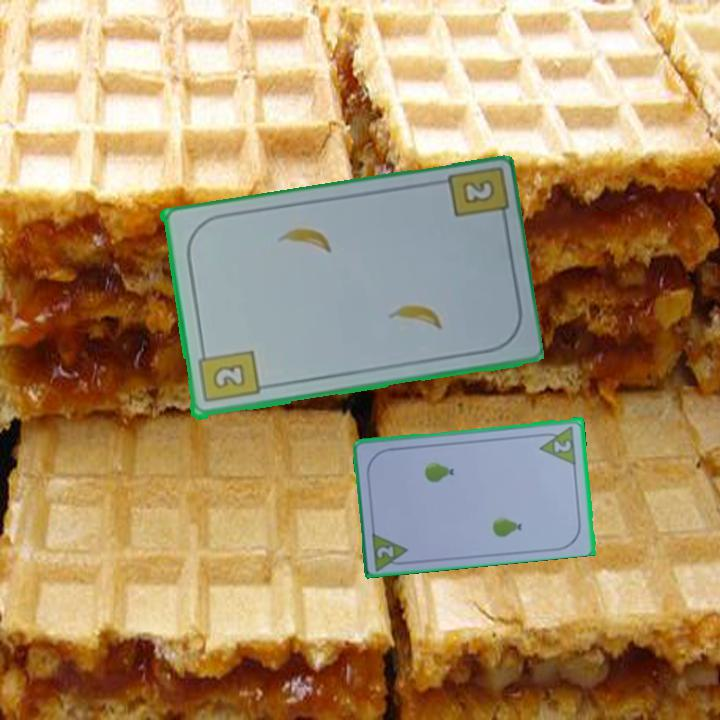2b: (194, 345, 261, 406), (458, 176, 498, 207)
2p: (368, 527, 413, 572), (550, 437, 574, 455)
